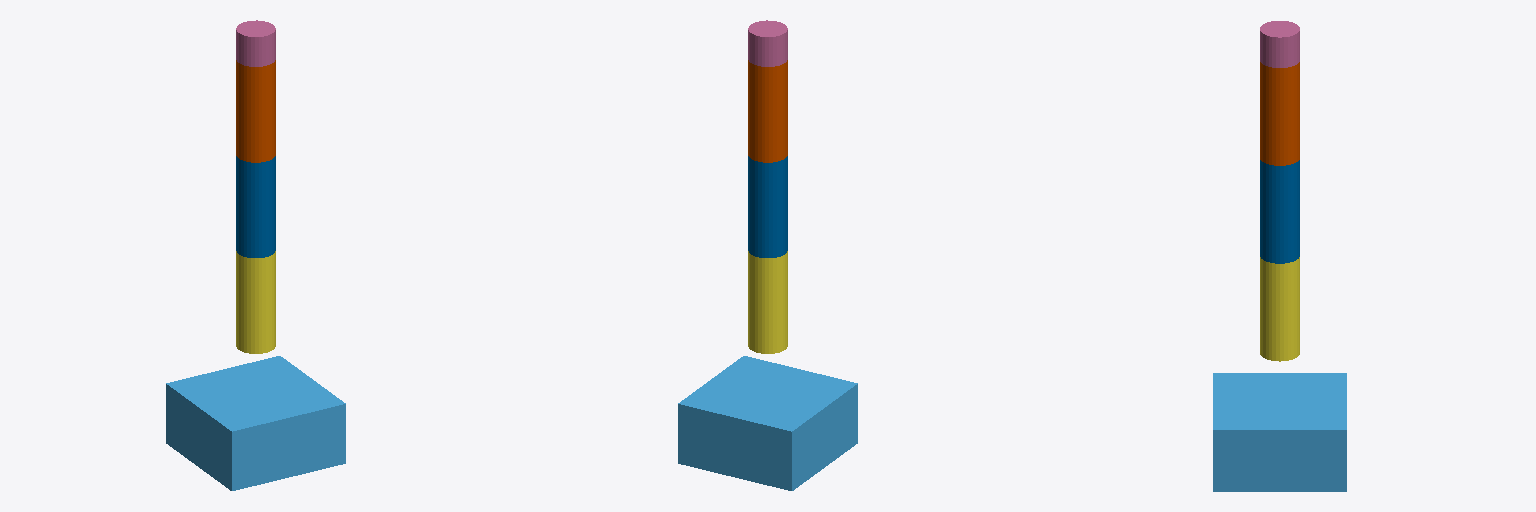
The robot description file, URDF, robot "robot2_2":
<?xml version="1.0" ?>
<!-- =================================================================================== -->
<!-- |    This document was autogenerated by xacro from robot2_final.xacro             | -->
<!-- |    EDITING THIS FILE BY HAND IS NOT RECOMMENDED                                 | -->
<!-- =================================================================================== -->
<robot name="robot2_2">
  <!-- End of Includes -->
  <!-- Start of robot description -->
  <link name="base_footprint"/>
  <joint name="base_footprint_joint" type="fixed">
    <origin rpy="0 0 0" xyz="0 0 0"/>
    <parent link="base_footprint"/>
    <child link="base_link"/>
  </joint>
  <link name="base_link">
    <inertial>
      <mass value="1024"/>
      <origin rpy="0 0 0" xyz="0 0 0.25"/>
      <inertia ixx="170.667" ixy="0" ixz="0" iyy="170.667" iyz="0" izz="170.667"/>
    </inertial>
    <collision>
      <origin rpy="0 0 0" xyz="0 0 0.25"/>
      <geometry>
        <box size="1 1 0.5"/>
      </geometry>
    </collision>
    <visual>
      <origin rpy="0 0 0" xyz="0 0 0.25"/>
      <geometry>
        <box size="1 1 0.5"/>
      </geometry>
    </visual>
  </link>
  <joint name="J_0" type="revolute">
    <axis xyz="0 0 1"/>
    <limit effort="1000" lower="-3.14" upper="3.14" velocity="0.5"/>
    <origin rpy="0 0 0" xyz="0 0 0.5"/>
    <parent link="base_link"/>
    <child link="link_01"/>
  </joint>
  <transmission name="trans_J_0">
    <type>transmission_interface/SimpleTransmission</type>
    <joint name="J_0">
      <hardwareInterface>hardware_interface/PositionJointInterface</hardwareInterface>
    </joint>
    <actuator name="motor_J_0">
      <mechanicalReduction>1</mechanicalReduction>
      <hardwareInterface>hardware_interface/PositionJointInterface</hardwareInterface>
    </actuator>
  </transmission>
  <link name="link_01">
    <inertial>
      <mass value="157.633"/>
      <origin rpy="0 0 0" xyz="0 0 0.2"/>
      <inertia ixx="13.235" ixy="0" ixz="0" iyy="13.235" iyz="0" izz="9.655"/>
    </inertial>
    <collision>
      <origin rpy="0 0 0" xyz="0 0 0.2"/>
      <geometry>
        <mesh filename="package://ex06/meshes/Link1-v2.stl" scale="0.001 0.001 0.001"/>
      </geometry>
    </collision>
    <visual>
      <origin rpy="0 0 0" xyz="0 0 0.2"/>
      <geometry>
        <mesh filename="package://ex06/meshes/Link1-v2.stl" scale="0.001 0.001 0.001"/>
      </geometry>
      <material name="light_black"/>
    </visual>
  </link>
  <joint name="J_1" type="revolute">
    <axis xyz="0 1 0"/>
    <limit effort="1000" lower="-3.14" upper="3.14" velocity="0.5"/>
    <origin rpy="0 0 0" xyz="0 0 0.4"/>
    <parent link="link_01"/>
    <child link="link_02"/>
  </joint>
  <transmission name="trans_J_1">
    <type>transmission_interface/SimpleTransmission</type>
    <joint name="J_1">
      <hardwareInterface>hardware_interface/PositionJointInterface</hardwareInterface>
    </joint>
    <actuator name="motor_J_1">
      <mechanicalReduction>1</mechanicalReduction>
      <hardwareInterface>hardware_interface/PositionJointInterface</hardwareInterface>
    </actuator>
  </transmission>
  <link name="link_02">
    <inertial>
      <mass value="57.906"/>
      <origin rpy="0 0 0" xyz="0 0 0.4"/>
      <inertia ixx="12.679" ixy="0" ixz="0" iyy="12.679" iyz="0" izz="0.651"/>
    </inertial>
    <collision>
      <origin rpy="0 0 0" xyz="0 0 0.4"/>
      <geometry>
        <box size="1 1 0.5"/>
      </geometry>
    </collision>
    <visual>
      <origin rpy="0 0 0" xyz="0 0 0.4"/>
      <geometry>
        <cylinder length="0.8" radius="0.15"/>
      </geometry>
    </visual>
  </link>
  <joint name="J_2" type="revolute">
    <axis xyz="0 1 0"/>
    <limit effort="1000" lower="-3.14" upper="3.14" velocity="0.5"/>
    <origin rpy="0 0 0" xyz="0 0 0.8"/>
    <parent link="link_02"/>
    <child link="link_03"/>
  </joint>
  <transmission name="trans_J_2">
    <type>transmission_interface/SimpleTransmission</type>
    <joint name="J_2">
      <hardwareInterface>hardware_interface/PositionJointInterface</hardwareInterface>
    </joint>
    <actuator name="motor_J_2">
      <mechanicalReduction>1</mechanicalReduction>
      <hardwareInterface>hardware_interface/PositionJointInterface</hardwareInterface>
    </actuator>
  </transmission>
  <link name="link_03">
    <inertial>
      <mass value="57.906"/>
      <origin rpy="0 0 0" xyz="0 0 0.4"/>
      <inertia ixx="12.679" ixy="0" ixz="0" iyy="12.679" iyz="0" izz="0.651"/>
    </inertial>
    <collision>
      <origin rpy="0 0 0" xyz="0 0 0.4"/>
      <geometry>
        <box size="1 1 0.5"/>
      </geometry>
    </collision>
    <visual>
      <origin rpy="0 0 0" xyz="0 0 0.4"/>
      <geometry>
        <cylinder length="0.8" radius="0.15"/>
      </geometry>
    </visual>
  </link>
  <joint name="J_3" type="revolute">
    <axis xyz="0 1 0"/>
    <limit effort="1000" lower="-3.14" upper="3.14" velocity="0.5"/>
    <origin rpy="0 0 0" xyz="0 0 0.8"/>
    <parent link="link_03"/>
    <child link="link_04"/>
  </joint>
  <transmission name="trans_J_3">
    <type>transmission_interface/SimpleTransmission</type>
    <joint name="J_3">
      <hardwareInterface>hardware_interface/PositionJointInterface</hardwareInterface>
    </joint>
    <actuator name="motor_J_3">
      <mechanicalReduction>1</mechanicalReduction>
      <hardwareInterface>hardware_interface/PositionJointInterface</hardwareInterface>
    </actuator>
  </transmission>
  <link name="link_04">
    <inertial>
      <mass value="57.906"/>
      <origin rpy="0 0 0" xyz="0 0 0.4"/>
      <inertia ixx="12.679" ixy="0" ixz="0" iyy="12.679" iyz="0" izz="0.651"/>
    </inertial>
    <collision>
      <origin rpy="0 0 0" xyz="0 0 0.4"/>
      <geometry>
        <box size="1 1 0.5"/>
      </geometry>
    </collision>
    <visual>
      <origin rpy="0 0 0" xyz="0 0 0.4"/>
      <geometry>
        <cylinder length="0.8" radius="0.15"/>
      </geometry>
    </visual>
  </link>
  <joint name="J_4" type="revolute">
    <axis xyz="0 0 1"/>
    <limit effort="1000" lower="-3.14" upper="3.14" velocity="0.5"/>
    <origin rpy="0 0 0" xyz="0 0 0.8"/>
    <parent link="link_04"/>
    <child link="link_05"/>
  </joint>
  <transmission name="trans_J_4">
    <type>transmission_interface/SimpleTransmission</type>
    <joint name="J_4">
      <hardwareInterface>hardware_interface/PositionJointInterface</hardwareInterface>
    </joint>
    <actuator name="motor_J_4">
      <mechanicalReduction>1</mechanicalReduction>
      <hardwareInterface>hardware_interface/PositionJointInterface</hardwareInterface>
    </actuator>
  </transmission>
  <link name="link_05">
    <inertial>
      <mass value="18.056"/>
      <origin rpy="0 0 0" xyz="0 0 0.125"/>
      <inertia ixx="0.479" ixy="0" ixz="0" iyy="0.479" iyz="0" izz="0.204"/>
    </inertial>
    <collision>
      <origin rpy="0 0 0" xyz="0 0 0.125"/>
      <geometry>
        <box size="1 1 0.5"/>
      </geometry>
    </collision>
    <visual>
      <origin rpy="0 0 0" xyz="0 0 0.125"/>
      <geometry>
        <cylinder length="0.25" radius="0.15"/>
      </geometry>
    </visual>
  </link>
  <gazebo>
    <plugin filename="libgazebo_ros_control.so" name="gazebo_ros_control">
      <robotNamespace>/robot2</robotNamespace>
    </plugin>
  </gazebo>
  <gazebo>
    <plugin filename="libgazebo_ros_joint_state_publisher.so" name="joint_state_publisher">
      <robotNamespace>/robot2</robotNamespace>
      <jointName>J_0, J_1, J_2, J_3, J_4</jointName>
      <updateRate>50</updateRate>
    </plugin>
  </gazebo>
</robot>

--- Facts derived from the render (not from the file) ---
Views: 3 orthographic renders of the robot side by side, from view 1: azimuth 30°, elevation 25°; view 2: azimuth 150°, elevation 25°; view 3: azimuth 270°, elevation 25°.
Model robot2_2 with 7 links and 6 joints (5 revolute, 1 fixed), rooted at base_footprint, posed all joints at 0.
Links seen in each view (by area): view 1: base_link, link_02, link_04, link_03, link_05; view 2: base_link, link_02, link_04, link_03, link_05; view 3: base_link, link_03, link_04, link_02, link_05.
Boxes of the visible links, <box> form: base_link: <box>166,356,345,490</box>; link_02: <box>236,251,275,353</box>; link_04: <box>236,60,275,162</box>; link_03: <box>236,156,275,257</box>; link_05: <box>236,20,275,66</box>; base_link: <box>678,356,857,490</box>; link_02: <box>748,251,787,353</box>; link_04: <box>748,60,787,162</box>; link_03: <box>748,156,787,257</box>; link_05: <box>748,20,787,66</box>; base_link: <box>1213,373,1346,491</box>; link_03: <box>1260,160,1299,263</box>; link_04: <box>1260,62,1299,165</box>; link_02: <box>1260,257,1299,361</box>; link_05: <box>1260,21,1299,67</box>.
Size in the robot's own frame: 1 by 1 by 3.55 metres.
Meshes: 1 distinct files referenced, 0 mesh visuals loaded (none loaded); not drawn: 1 (reference not matched to a file when rendering).